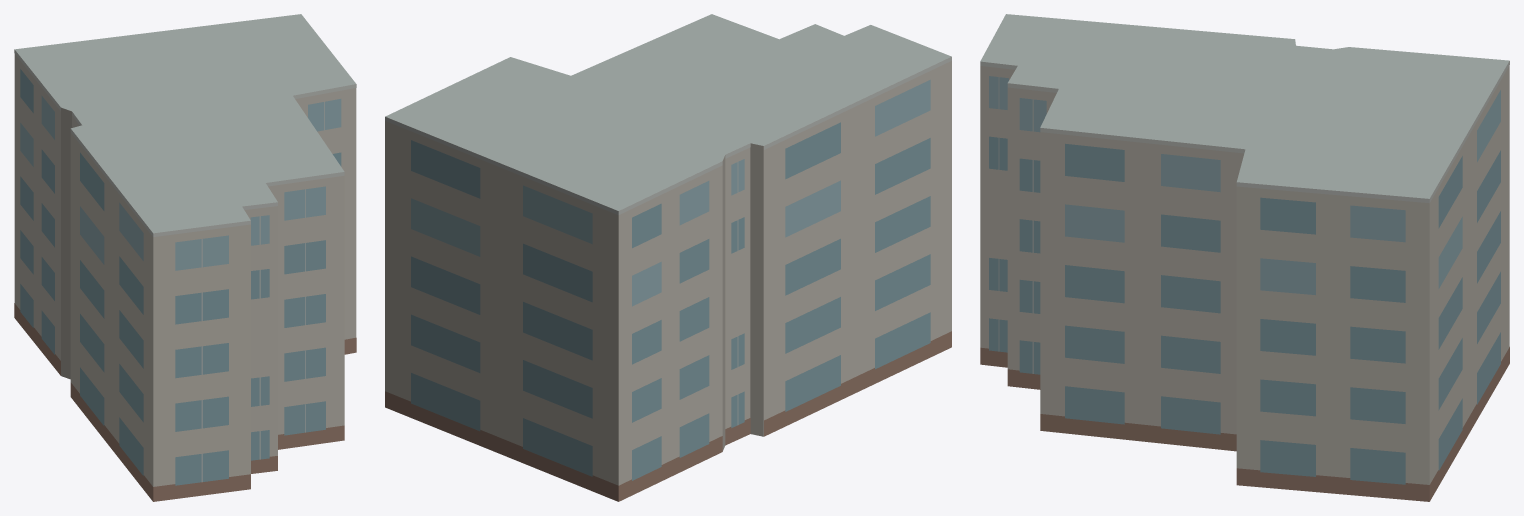
Rendered from survey-upis-32675473.glb.
3 views of the same model, side by side, from view 1: azimuth 30°, elevation 25°; view 2: azimuth 150°, elevation 25°; view 3: azimuth 270°, elevation 25° (orthographic). The views are drawn at different scales.
Parts seen in each view (by area): view 1: survey-upis-32675473.tmp; view 2: survey-upis-32675473.tmp; view 3: survey-upis-32675473.tmp.
Part boxes in pixels (bbox=[...]): survey-upis-32675473.tmp: bbox=[14, 14, 356, 501]; survey-upis-32675473.tmp: bbox=[385, 14, 951, 501]; survey-upis-32675473.tmp: bbox=[980, 14, 1509, 501].
Size of the model in its own units: 22.41 by 17.12 by 27.13.
